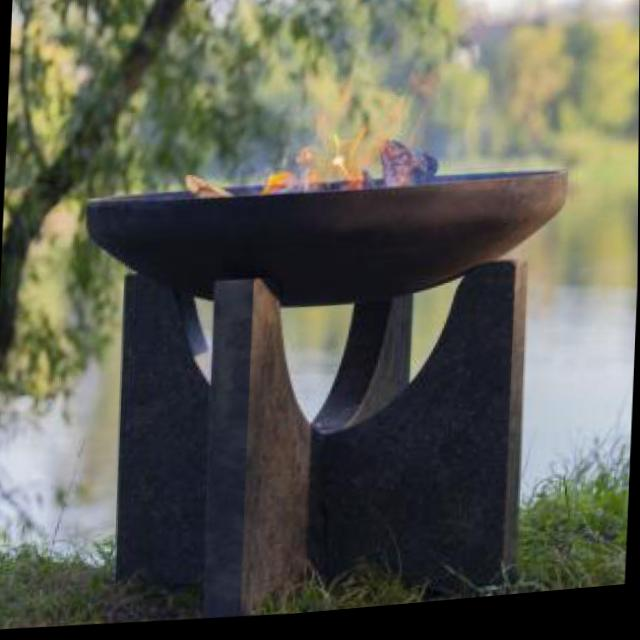Fire: (173, 125, 409, 214)
